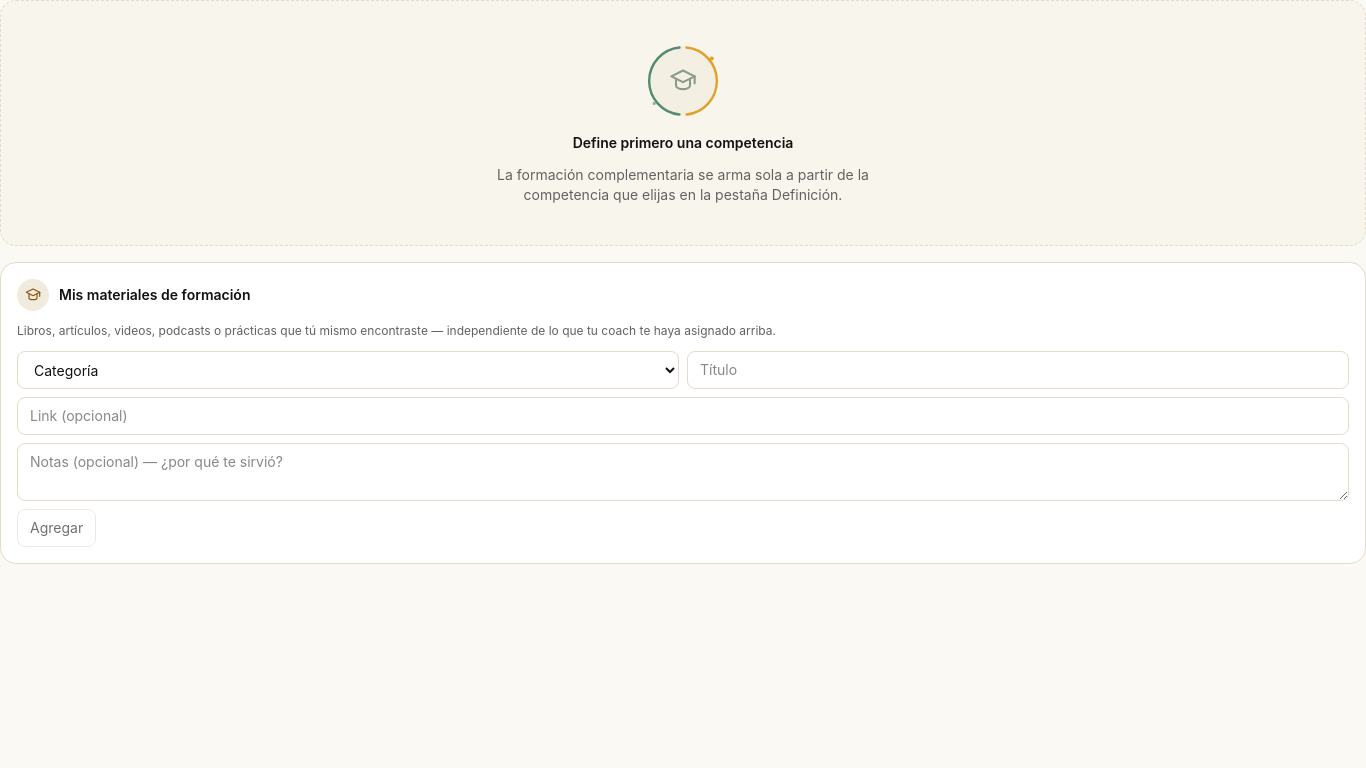
Test case: FormacionTab › Mis materiales de formación › adds a new recurso personal and prepends it to the list
Select "Video" in the dropdown at point(348, 370), box [17,351,679,389]
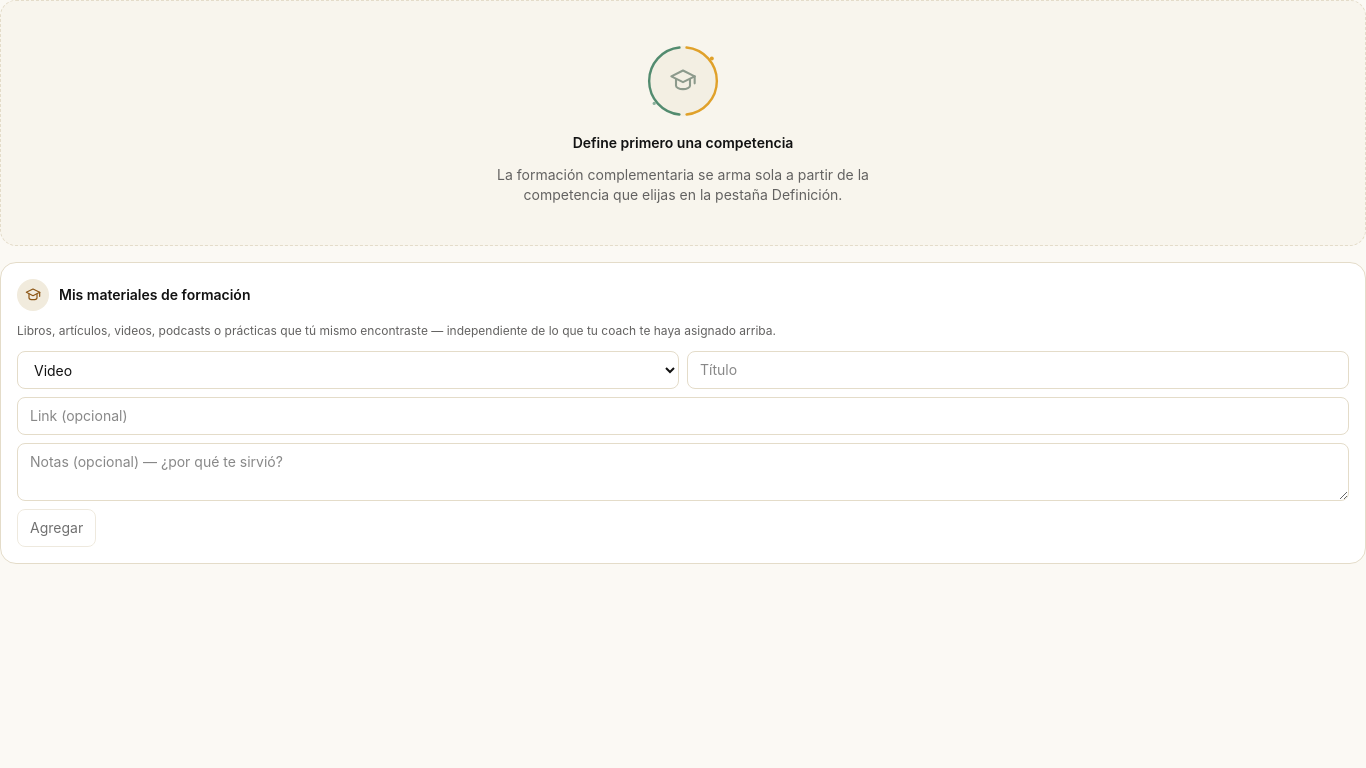
Type "Charla TED sobre feedback" into the field with placeholder "Título" at point(1018, 370), box [687,351,1349,389]
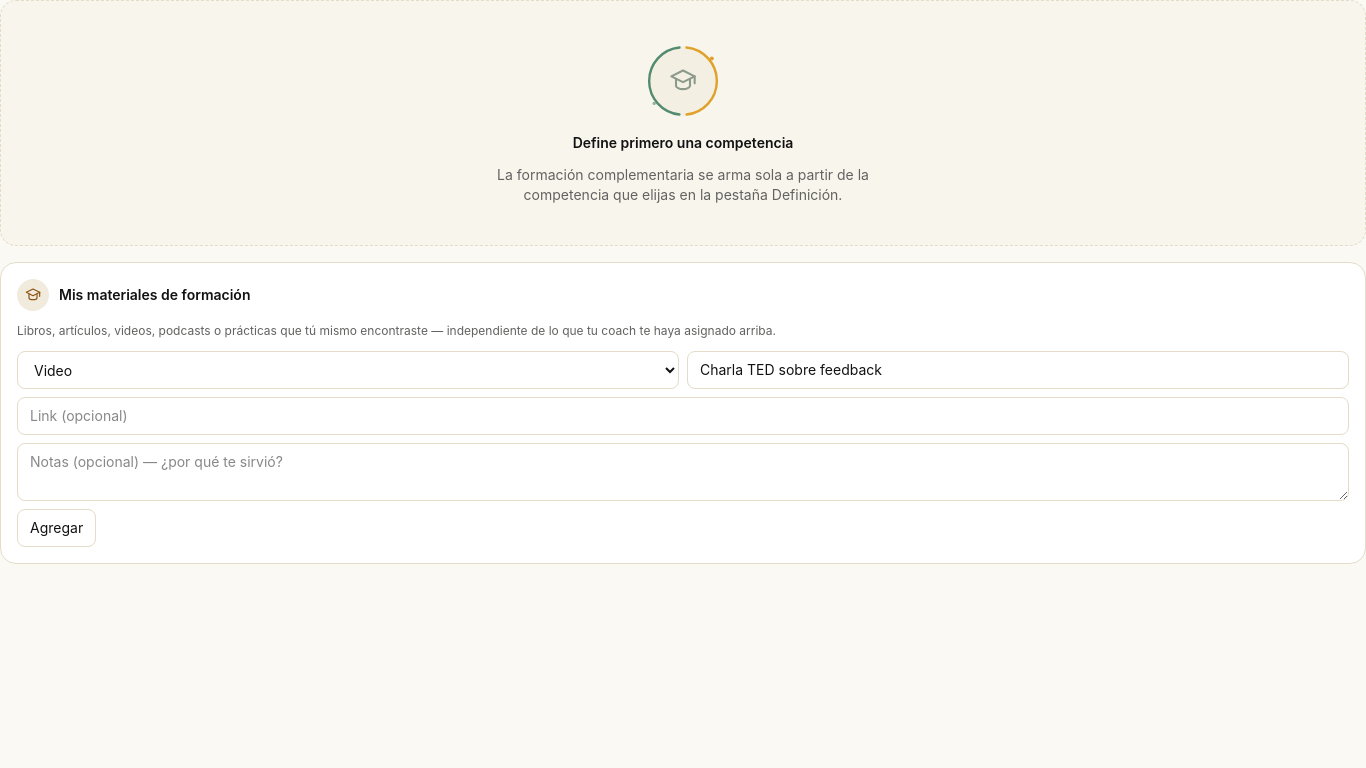
Type "https://example.com/charla" into the field with placeholder "Link (opcional)" at point(683, 416), box [17,397,1349,435]
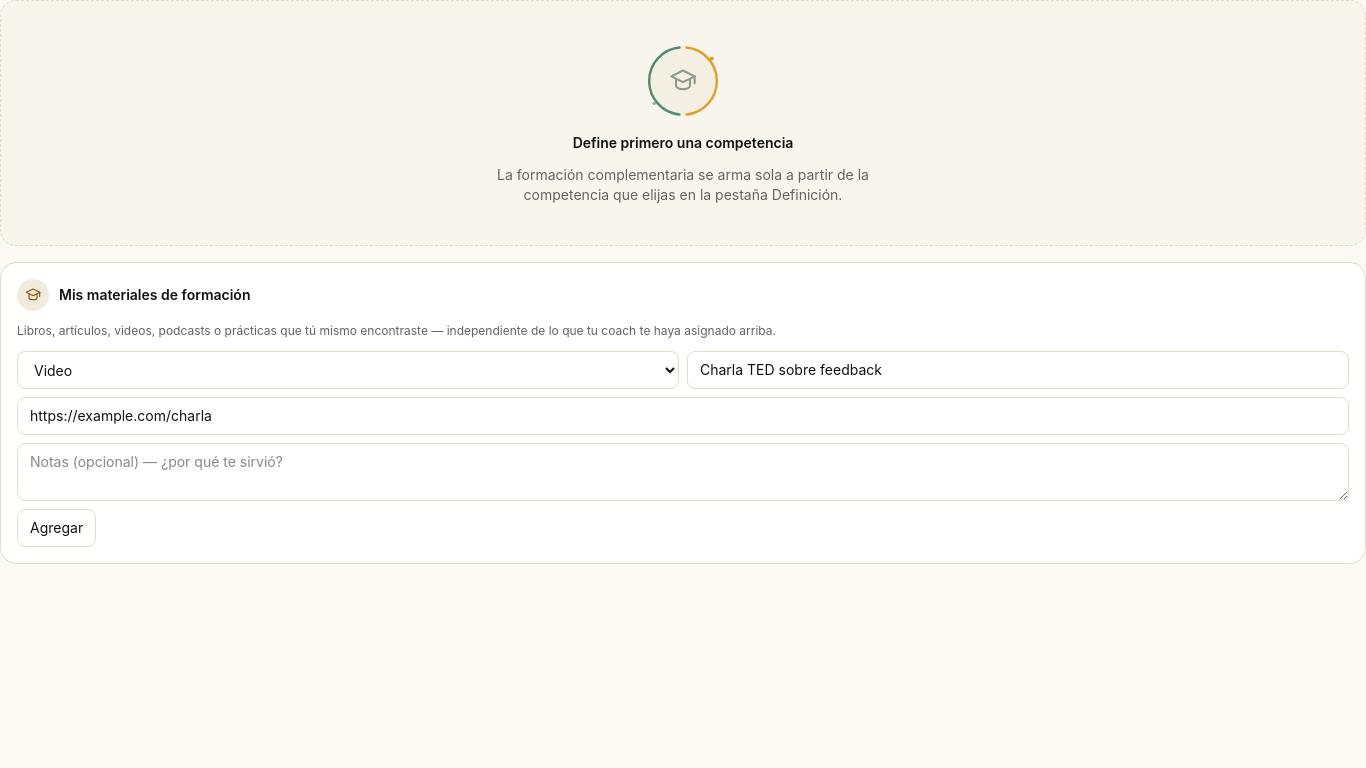
Click the button "Agregar" at point(57, 528), box [17,509,96,547]
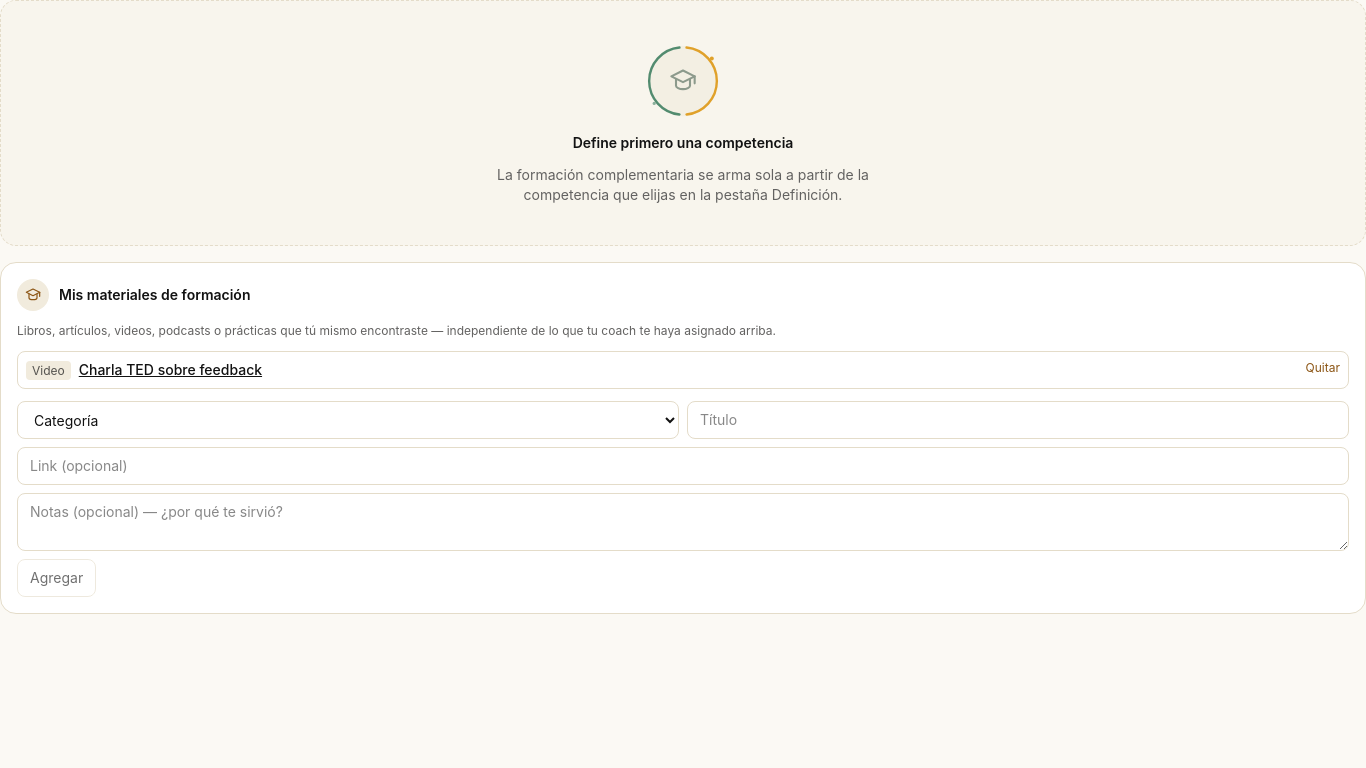
expect the text "Charla TED sobre feedback" is shown: met, box [79,361,262,378]
